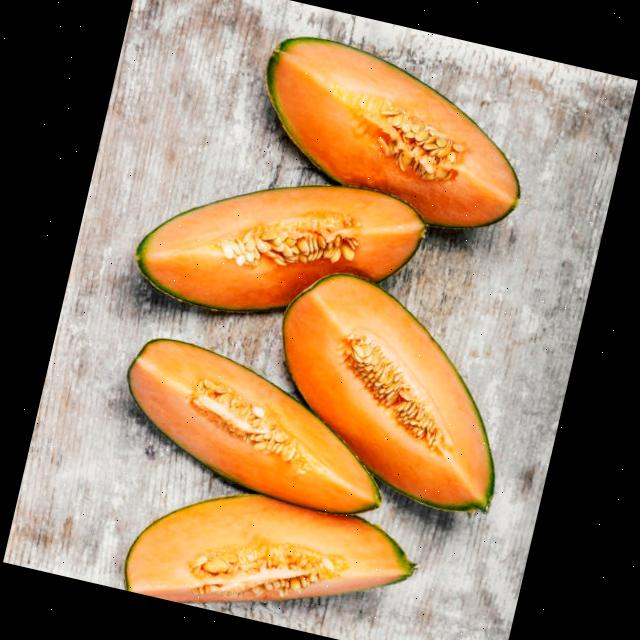Hami Melon: (252, 264, 534, 522), (126, 140, 434, 354), (240, 26, 545, 241), (106, 328, 408, 524), (117, 463, 428, 640)
